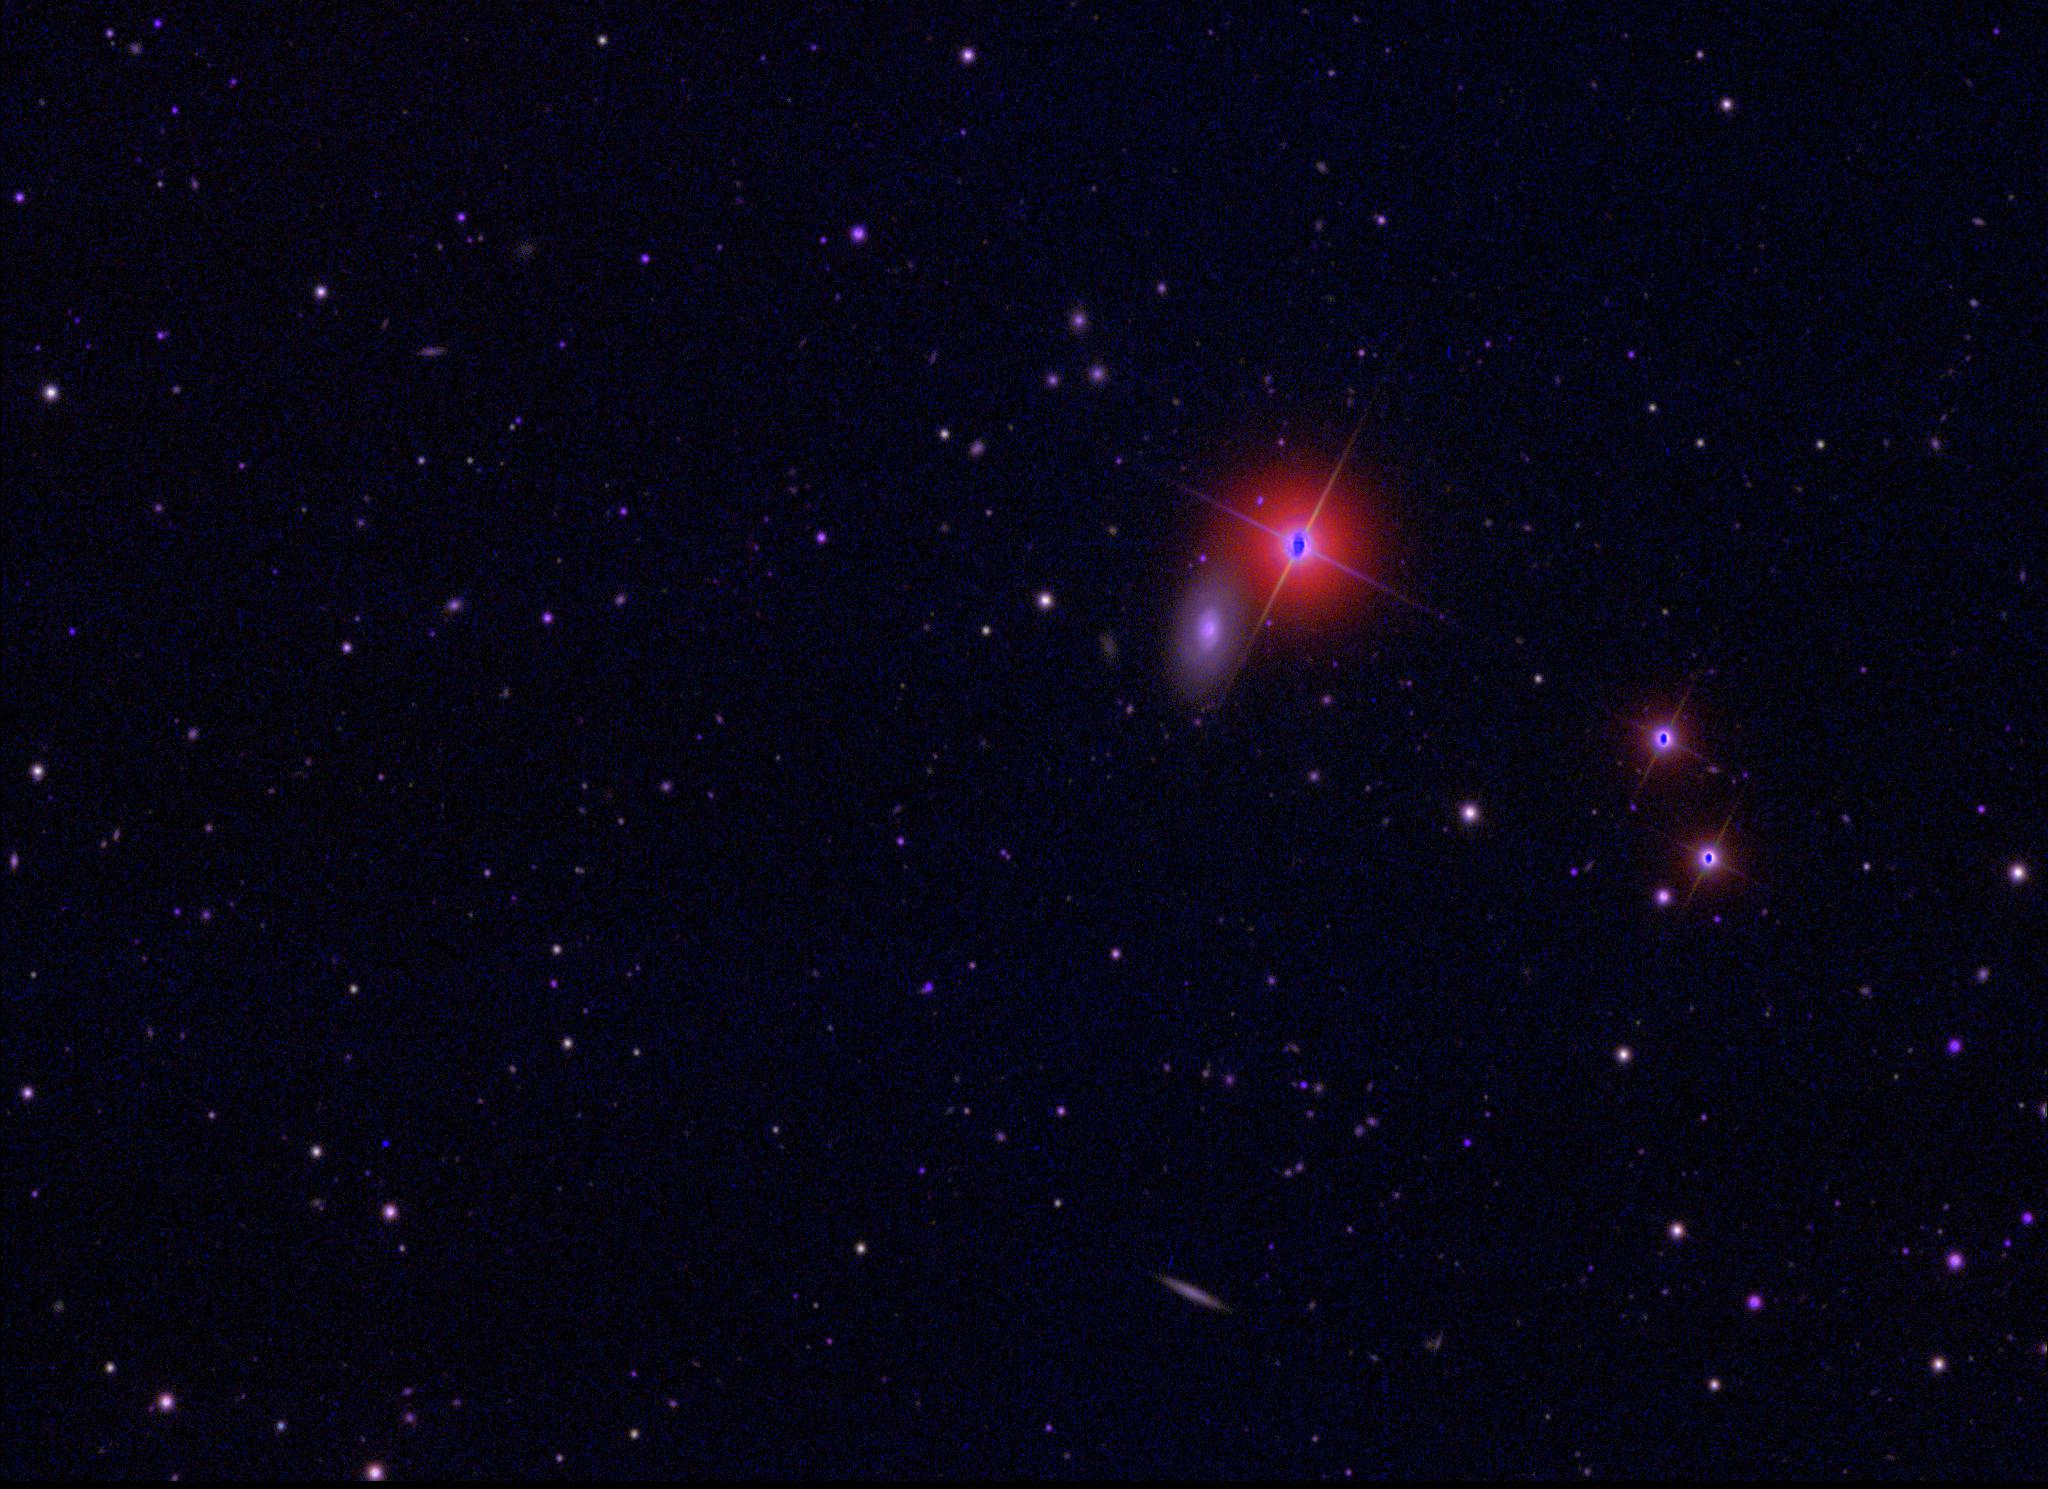L: (375, 1134, 390, 1149)
